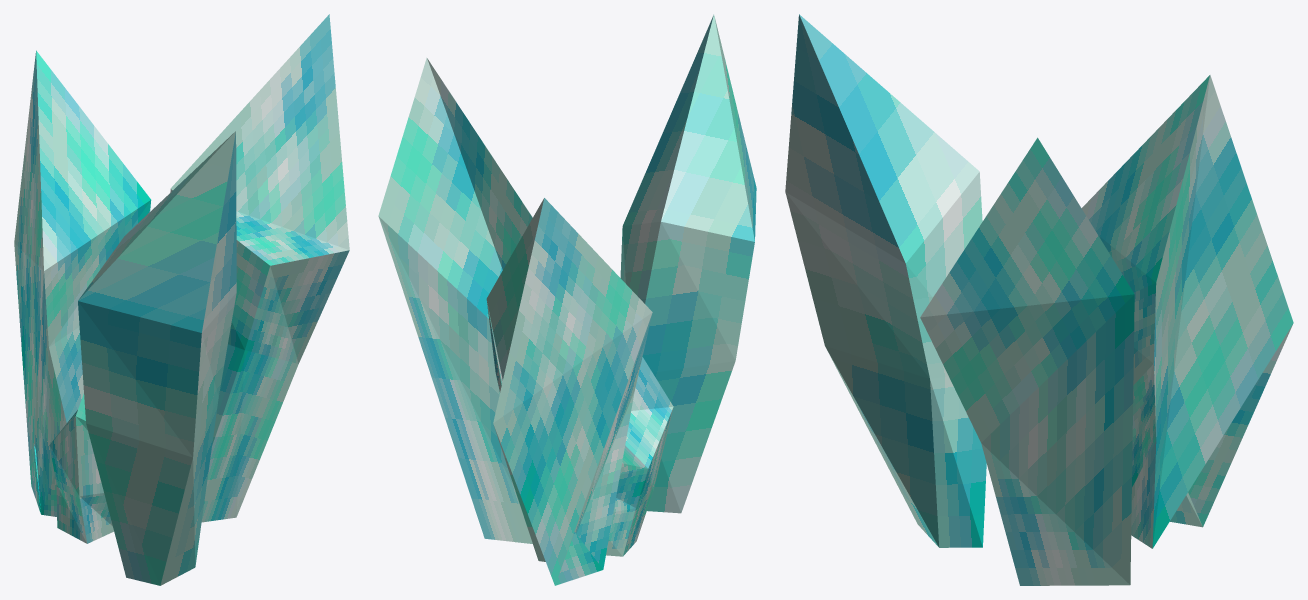
The model's file is frozen_crystal.obj.
3 views of the same model, side by side, from view 1: azimuth 30°, elevation 25°; view 2: azimuth 150°, elevation 25°; view 3: azimuth 270°, elevation 25° (orthographic). The views are drawn at different scales.
Bounding box in the file's own units: 0.6588 × 0.992 × 0.8671.
